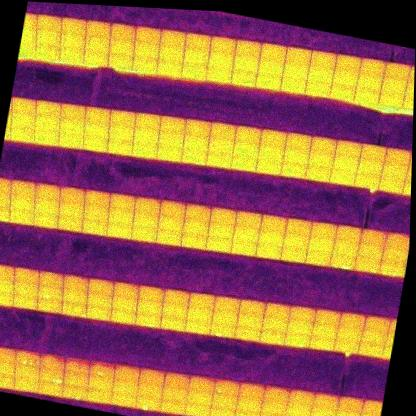Diode: (329, 251, 356, 271), (134, 311, 163, 329), (38, 365, 65, 384), (283, 332, 311, 350)
Hotspot: (106, 206, 135, 226), (130, 54, 159, 74), (329, 81, 356, 102), (81, 217, 109, 237), (304, 164, 333, 183), (37, 270, 66, 289), (208, 320, 237, 339), (212, 377, 241, 396), (87, 360, 116, 379), (13, 349, 42, 368), (132, 40, 161, 59), (280, 160, 307, 180), (205, 150, 233, 169), (180, 147, 208, 166), (353, 255, 381, 274), (63, 355, 91, 374), (377, 259, 406, 277), (230, 68, 257, 87), (36, 284, 64, 302), (60, 300, 88, 318), (134, 394, 162, 412), (304, 79, 332, 97), (33, 197, 60, 215), (308, 333, 335, 351), (61, 383, 88, 401), (259, 328, 286, 345), (86, 305, 112, 321), (232, 407, 261, 416), (257, 411, 285, 416)
Normal: (108, 107, 137, 129), (61, 273, 91, 294), (9, 110, 37, 132), (179, 59, 207, 81), (234, 124, 263, 145), (208, 120, 237, 141), (358, 227, 387, 248), (108, 191, 137, 212), (86, 276, 115, 297), (311, 390, 340, 411), (11, 266, 41, 286), (359, 143, 387, 164), (84, 104, 112, 125), (107, 122, 135, 143), (82, 119, 110, 140), (155, 143, 183, 164), (130, 139, 158, 160), (309, 218, 337, 239), (229, 237, 257, 258), (207, 50, 235, 71), (254, 71, 282, 92), (383, 146, 412, 166), (259, 129, 288, 149), (158, 114, 187, 134), (380, 160, 409, 180), (33, 112, 62, 132), (31, 127, 60, 147), (83, 188, 112, 208), (303, 247, 332, 267), (333, 53, 362, 73), (308, 50, 337, 70), (234, 39, 263, 59), (183, 31, 212, 51), (379, 75, 408, 95), (12, 375, 41, 395), (181, 46, 210, 66), (376, 90, 405, 110), (32, 42, 61, 62), (184, 118, 211, 139), (134, 110, 161, 131), (59, 101, 86, 122), (282, 146, 309, 167), (35, 98, 62, 119), (132, 126, 159, 147), (81, 133, 108, 154), (155, 226, 182, 247), (383, 60, 410, 81), (359, 57, 386, 78), (159, 28, 186, 49), (188, 373, 215, 394), (157, 43, 184, 64), (205, 63, 232, 84), (334, 140, 362, 160), (284, 132, 312, 152), (232, 139, 260, 159), (157, 129, 185, 149), (58, 116, 86, 136), (56, 131, 84, 151), (257, 227, 285, 247), (254, 240, 282, 260), (204, 234, 232, 254), (105, 220, 133, 240), (288, 304, 316, 324), (284, 45, 312, 65), (258, 41, 286, 61), (262, 383, 290, 403), (108, 22, 136, 42), (185, 387, 213, 407), (59, 16, 87, 36), (306, 64, 334, 84), (257, 56, 285, 76), (155, 58, 183, 78), (106, 51, 134, 71), (328, 168, 357, 187), (379, 245, 408, 264), (355, 242, 384, 261), (131, 210, 160, 229), (111, 281, 140, 300), (60, 287, 89, 306), (109, 307, 138, 326), (160, 383, 189, 402), (356, 157, 383, 177), (10, 96, 37, 116), (182, 132, 209, 152), (106, 137, 133, 157), (383, 231, 410, 251), (334, 224, 361, 244), (34, 181, 61, 201), (157, 211, 184, 231), (180, 230, 207, 250), (134, 25, 161, 45), (238, 379, 265, 399), (113, 363, 140, 383), (84, 18, 111, 38), (35, 13, 62, 33), (34, 28, 61, 48), (206, 136, 234, 155), (353, 170, 381, 189), (230, 154, 258, 173), (234, 210, 262, 229), (184, 202, 212, 221), (307, 234, 335, 253), (182, 216, 210, 235), (279, 244, 307, 263), (56, 214, 84, 233), (338, 310, 366, 329), (313, 307, 341, 326), (263, 302, 291, 321), (213, 295, 241, 314), (188, 291, 216, 310), (162, 288, 190, 307), (209, 35, 237, 54), (162, 370, 190, 389), (109, 389, 137, 408), (36, 378, 64, 397), (355, 72, 383, 91), (83, 34, 111, 53), (279, 76, 307, 95), (210, 308, 239, 326), (364, 314, 390, 334), (332, 153, 359, 172), (258, 143, 285, 162), (255, 157, 282, 176), (9, 124, 36, 143), (285, 216, 312, 235), (260, 213, 287, 232), (282, 230, 309, 249), (9, 179, 36, 198), (207, 220, 234, 239), (82, 202, 109, 221), (137, 285, 164, 304), (186, 305, 213, 324), (287, 387, 314, 406), (137, 368, 164, 387), (158, 397, 185, 416), (282, 61, 309, 80), (108, 37, 135, 56), (353, 86, 380, 105), (59, 31, 86, 50), (82, 49, 109, 68), (58, 46, 85, 65), (307, 151, 335, 169), (377, 175, 405, 193), (58, 185, 86, 203), (57, 200, 85, 218), (8, 193, 36, 211), (130, 224, 158, 242), (31, 211, 59, 229), (238, 299, 266, 317), (110, 296, 138, 314), (85, 292, 113, 310), (39, 352, 67, 370), (210, 391, 238, 409), (85, 386, 113, 404), (331, 69, 359, 87), (9, 207, 35, 226), (10, 293, 39, 310), (309, 137, 336, 155), (210, 207, 237, 225), (159, 199, 186, 217), (134, 196, 161, 214), (232, 225, 259, 243), (236, 312, 263, 330), (161, 302, 188, 320), (159, 315, 186, 333), (260, 398, 287, 416), (232, 55, 259, 73), (331, 238, 359, 255), (310, 321, 338, 338), (233, 325, 261, 342), (235, 395, 263, 412), (86, 374, 114, 391), (361, 329, 387, 347), (336, 325, 362, 343), (261, 315, 288, 332), (12, 280, 39, 297), (36, 297, 63, 314), (135, 382, 162, 399), (112, 378, 139, 395), (62, 370, 89, 387), (14, 363, 41, 380), (337, 395, 363, 412), (136, 299, 163, 315), (184, 319, 211, 335), (286, 320, 312, 336), (358, 342, 384, 358), (333, 338, 359, 354), (284, 401, 311, 416), (361, 398, 383, 416), (184, 402, 210, 416), (0, 345, 18, 363), (209, 404, 236, 416), (0, 261, 16, 281), (308, 406, 337, 416), (0, 276, 16, 294), (0, 358, 16, 376), (0, 372, 16, 390), (0, 289, 14, 307), (401, 94, 414, 112), (334, 408, 361, 416), (404, 79, 414, 99), (406, 64, 415, 84), (358, 411, 380, 416), (281, 415, 309, 416)
